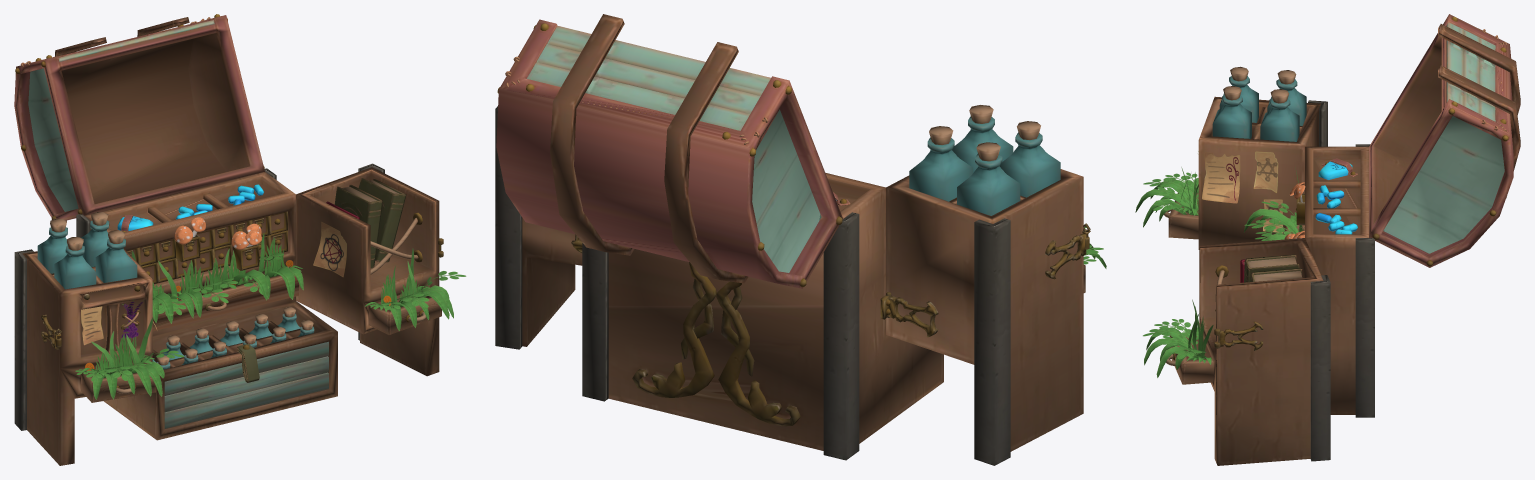
File: alchemists-chest.glb
3 views of the same model, side by side, from view 1: azimuth 30°, elevation 25°; view 2: azimuth 150°, elevation 25°; view 3: azimuth 270°, elevation 25° (orthographic). The views are drawn at different scales.
Parts seen in each view (by area): view 1: Plane.094_Chest1_0, Plane.094_Acs_0, Plane.094_Plant_0, Plane.094_Papers_0; view 2: Plane.094_Chest1_0, Plane.094_Acs_0; view 3: Plane.094_Chest1_0, Plane.094_Acs_0, Plane.094_Plant_0, Plane.094_Papers_0.
Boxes of the visible parts, box(x1,y1,x2,y2) form: Plane.094_Chest1_0: box(14, 14, 439, 465); Plane.094_Acs_0: box(14, 163, 443, 430); Plane.094_Plant_0: box(75, 217, 466, 399); Plane.094_Papers_0: box(81, 221, 346, 345); Plane.094_Chest1_0: box(496, 14, 1083, 451); Plane.094_Acs_0: box(495, 105, 1090, 465); Plane.094_Chest1_0: box(1198, 14, 1520, 465); Plane.094_Acs_0: box(1163, 66, 1374, 461); Plane.094_Plant_0: box(1135, 151, 1305, 377); Plane.094_Papers_0: box(1202, 151, 1282, 232).
Size of the model in its own units: 3.48 by 2.62 by 2.84.
Materials: 4 (4 with a texture image).
